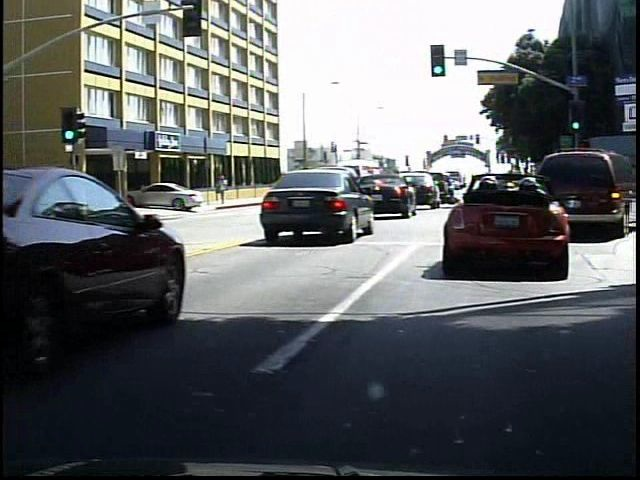person: (208, 170, 227, 205)
